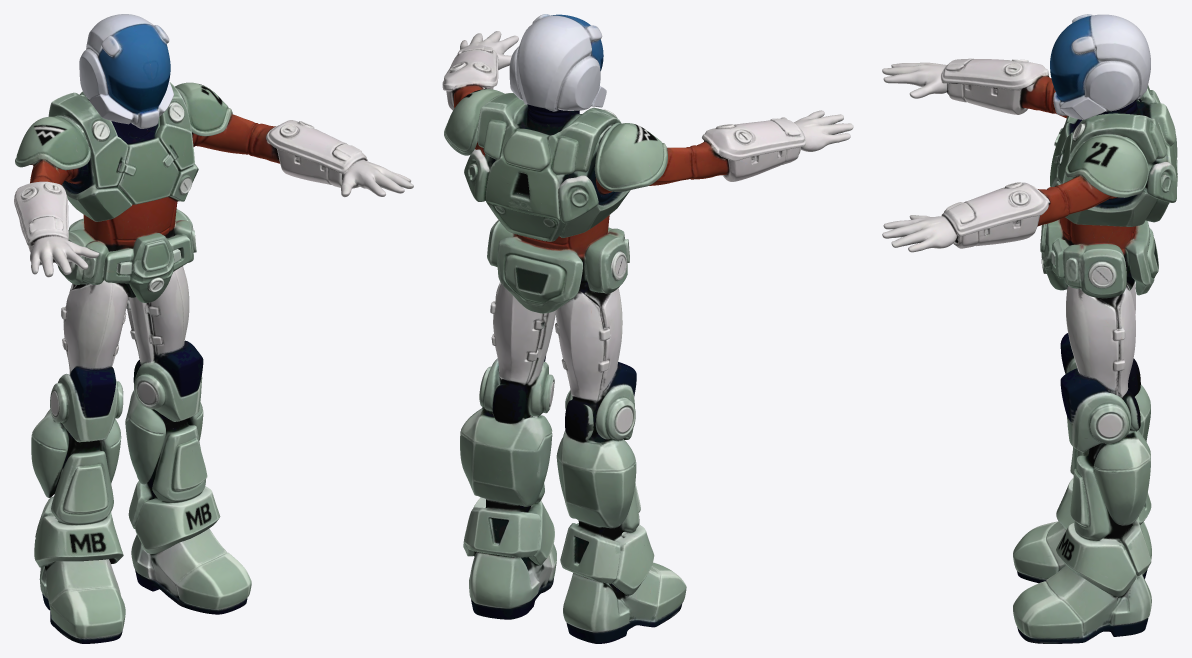
Rendered from scott-bernard-gear-v2.glb.
The picture shows the model from 3 angles, left to right: view 1: azimuth 30°, elevation 25°; view 2: azimuth 150°, elevation 25°; view 3: azimuth 270°, elevation 25°; orthographic projection. The views are drawn at different scales.
Visible parts, largest first — view 1: Mesh_0; view 2: Mesh_0; view 3: Mesh_0.
Part boxes in pixels (left/top/right/bottom): Mesh_0: left=14, top=14, right=413, bottom=643; Mesh_0: left=442, top=14, right=853, bottom=643; Mesh_0: left=882, top=14, right=1177, bottom=643.
Size of the model in its own units: 1.3 by 1.9 by 0.8734.
Materials: 1 (1 with a texture image).
